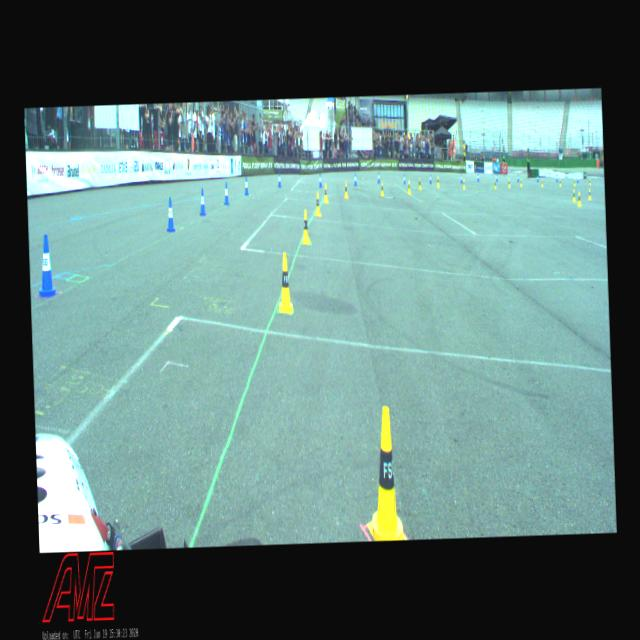blue_cone: (34, 234, 58, 296), (166, 197, 174, 231), (199, 188, 206, 215), (223, 181, 229, 204), (244, 177, 249, 194), (277, 172, 281, 186), (318, 174, 322, 186), (354, 172, 356, 185), (459, 175, 462, 182), (378, 172, 380, 182), (403, 174, 405, 184), (476, 172, 478, 182), (429, 174, 431, 184), (495, 174, 497, 182), (516, 174, 518, 182), (536, 174, 538, 182), (555, 174, 557, 182), (576, 175, 578, 182)
yellow_cone: (363, 406, 402, 540), (276, 252, 292, 312), (300, 209, 310, 243), (314, 192, 320, 216), (322, 183, 328, 202), (343, 182, 348, 198), (576, 191, 580, 206), (572, 188, 575, 202), (380, 182, 383, 196), (407, 180, 410, 193), (418, 178, 421, 190), (436, 176, 438, 187), (588, 188, 590, 199), (508, 178, 510, 187), (520, 178, 522, 186), (541, 178, 543, 186), (494, 180, 496, 188), (462, 180, 464, 188), (559, 178, 561, 186), (588, 178, 590, 185), (573, 178, 575, 185)
